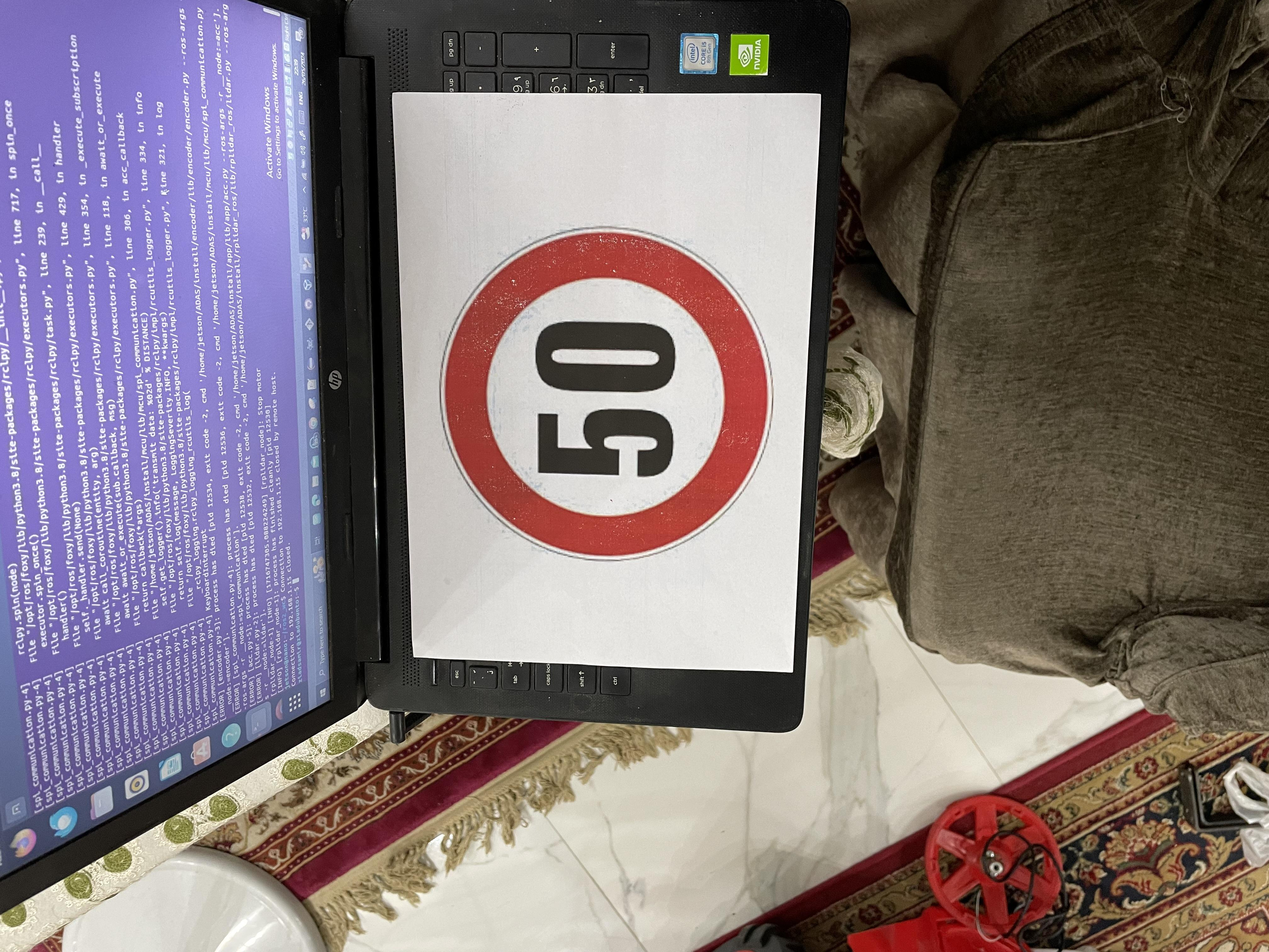50-Speed: (492, 336, 989, 577)
